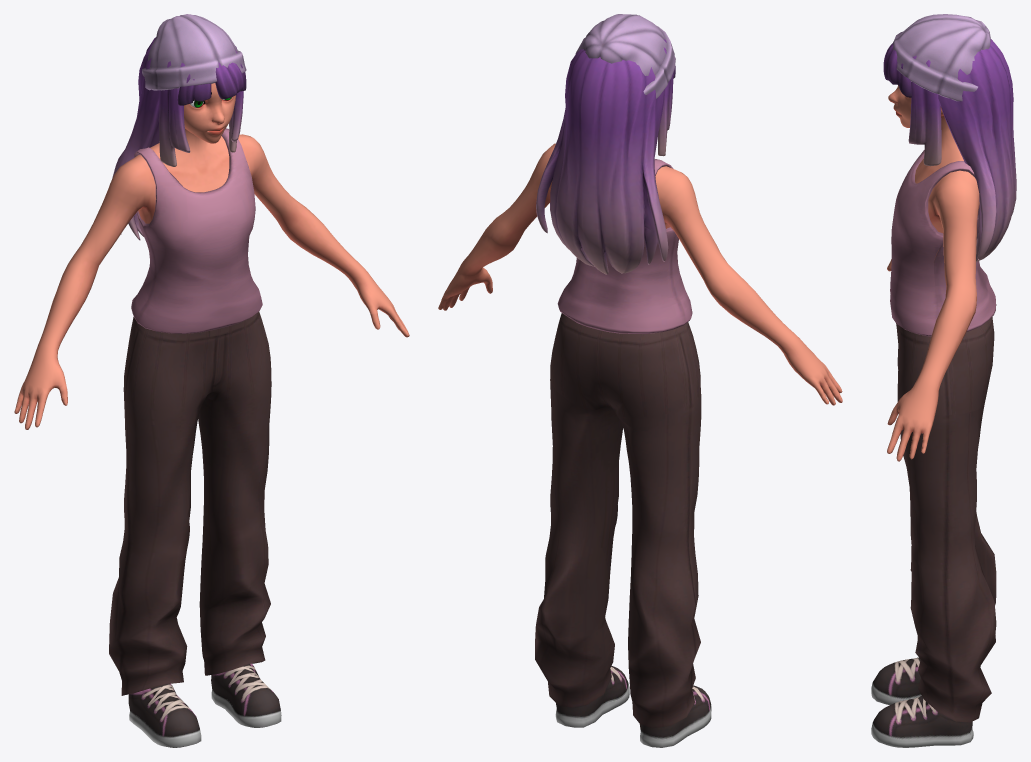
Rendered from Pixiepata_Mesh.obj.
The picture shows the model from 3 angles, left to right: view 1: azimuth 30°, elevation 25°; view 2: azimuth 150°, elevation 25°; view 3: azimuth 270°, elevation 25°; orthographic projection. The views are drawn at different scales.
Visible parts, largest first — view 1: Pixiepata_Mesh_0; view 2: Pixiepata_Mesh_0; view 3: Pixiepata_Mesh_0.
Part boxes in pixels (x1,y1,x2,y2): Pixiepata_Mesh_0: [14, 14, 409, 747]; Pixiepata_Mesh_0: [438, 14, 842, 747]; Pixiepata_Mesh_0: [871, 14, 1016, 747].
Bounding box in the file's own units: 1.06 × 1.82 × 0.342.
1 material, 1 textured.
